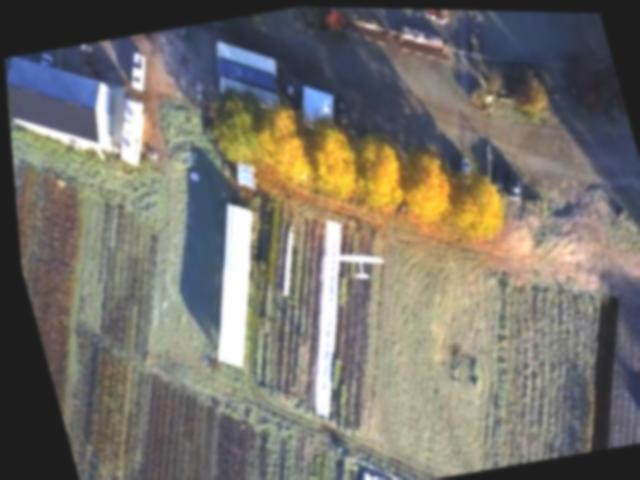uav: (329, 243, 386, 283)
